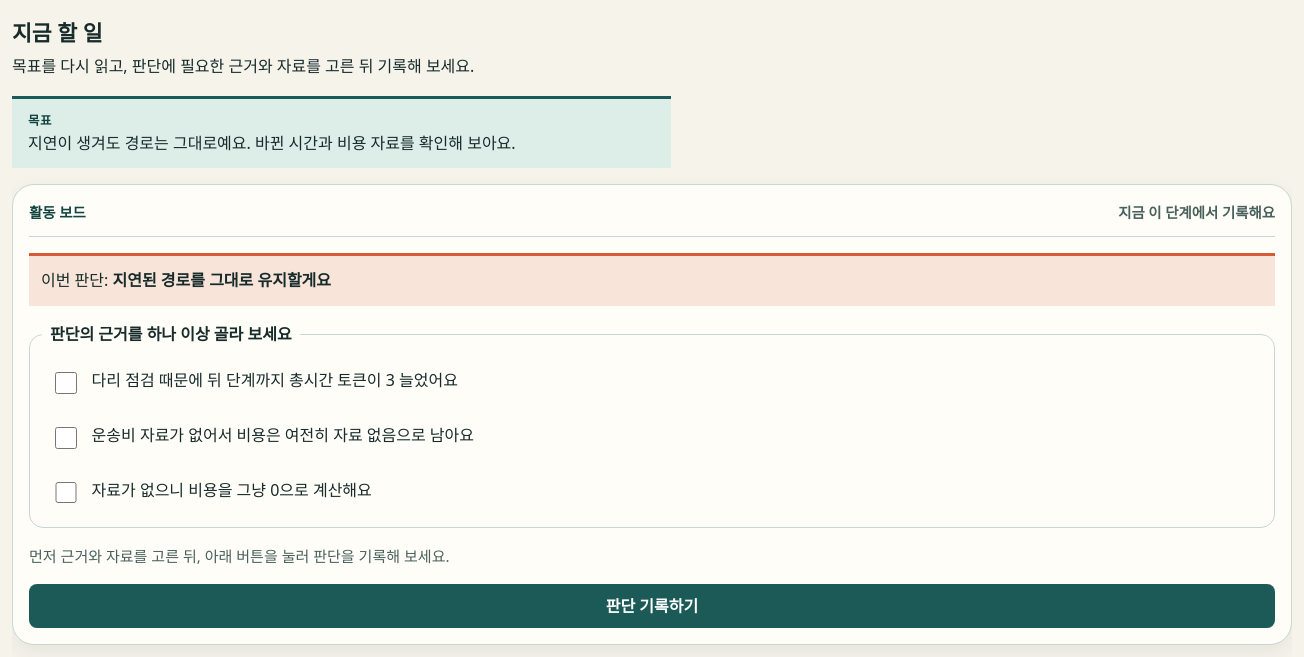
Test: RouteWorkbench — 판단 단계 › 근거 없이 기록하면 통과하지 않고 정답을 공개하지 않으며 한 번 다시 정하기를 제공한다
The width and height of the screenshot is (1304, 657).
Click the button "판단 기록하기": (652, 606) top-left (29, 584), bottom-right (1275, 628)
(page scrolled)
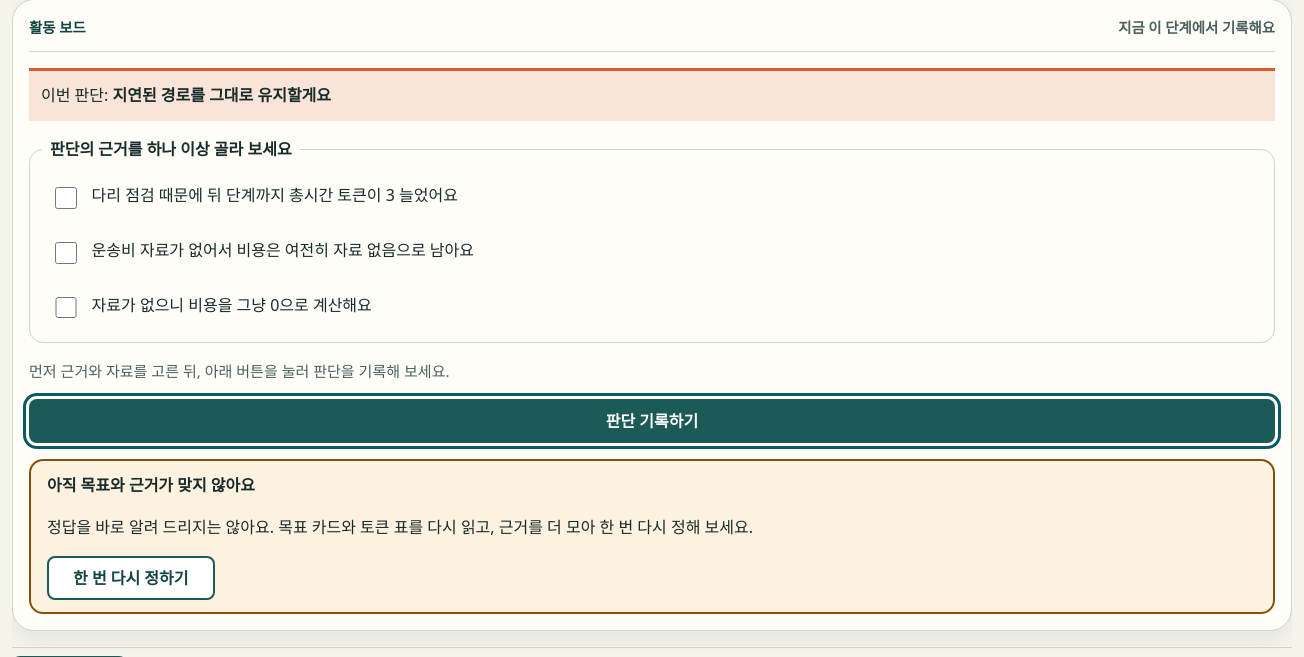
Now the text "아직 목표와 근거가 맞지 않아요" is shown, box top-left (47, 474), bottom-right (255, 496)
Now the button "한 번 다시 정하기" is shown
Click the button "한 번 다시 정하기": (131, 578) top-left (47, 556), bottom-right (214, 600)
(page scrolled)
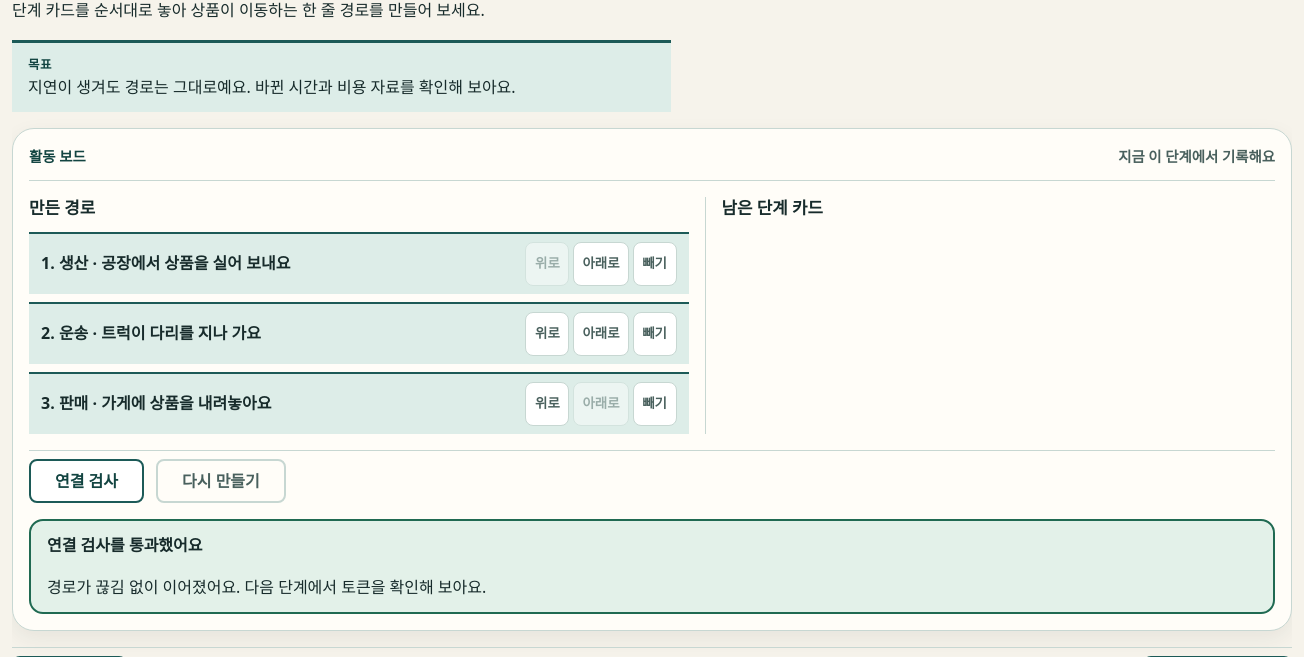
Now the button "연결 검사" is shown, box top-left (29, 459), bottom-right (144, 503)
